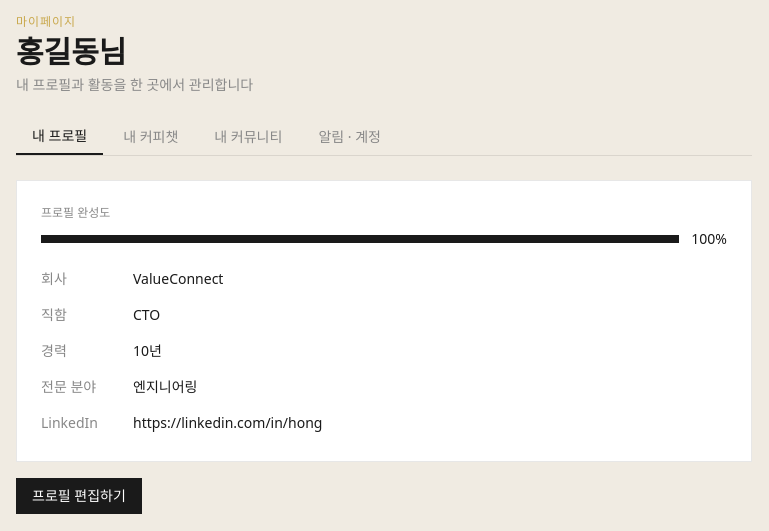
Test: /me MeClient › switches to community tab
The width and height of the screenshot is (769, 531).
What coordinates should you click on to do the following:
click the tab with test id "me-tab-community"
I would click on:
 (248, 137)
Its box is [198, 119, 298, 155].
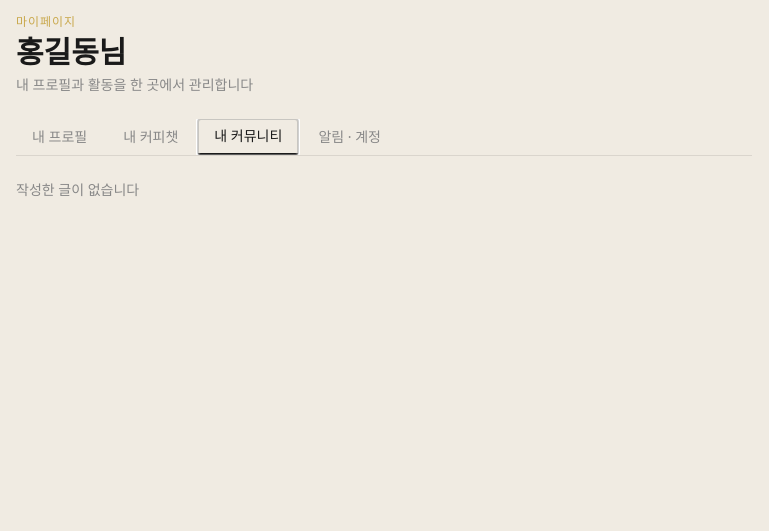
Now the panel with test id "me-panel-community" is shown, box [16, 180, 139, 199]
